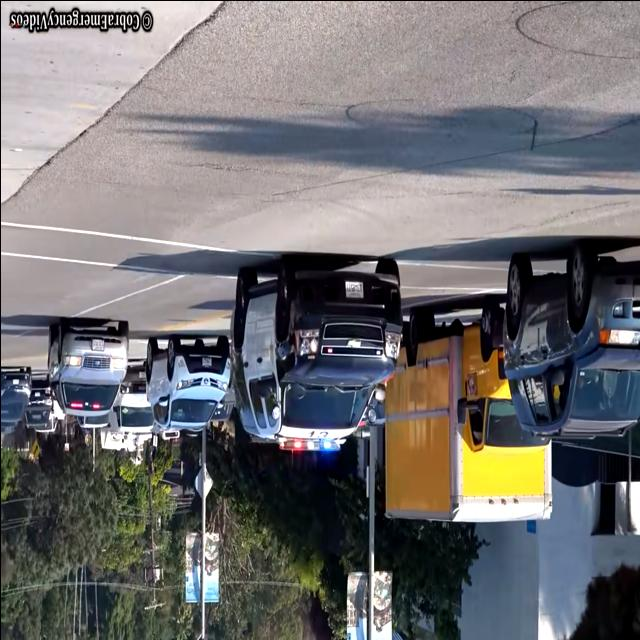emergency-vehicles: (211, 250, 439, 458)
